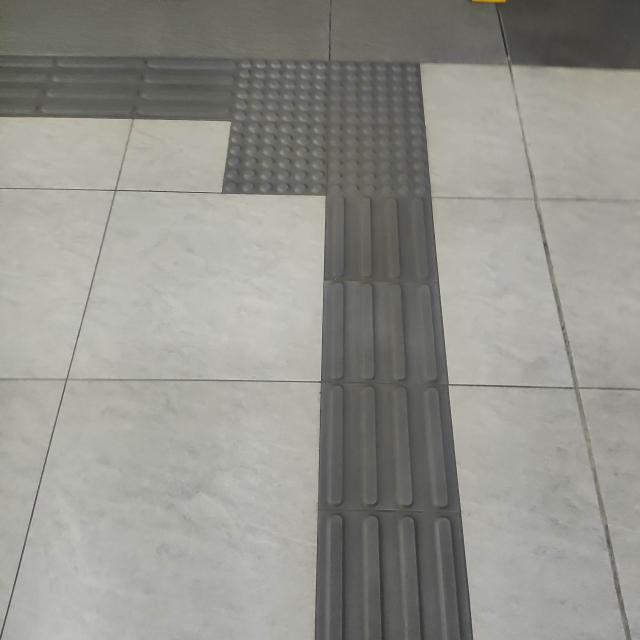kiri: (88, 17, 496, 239)
